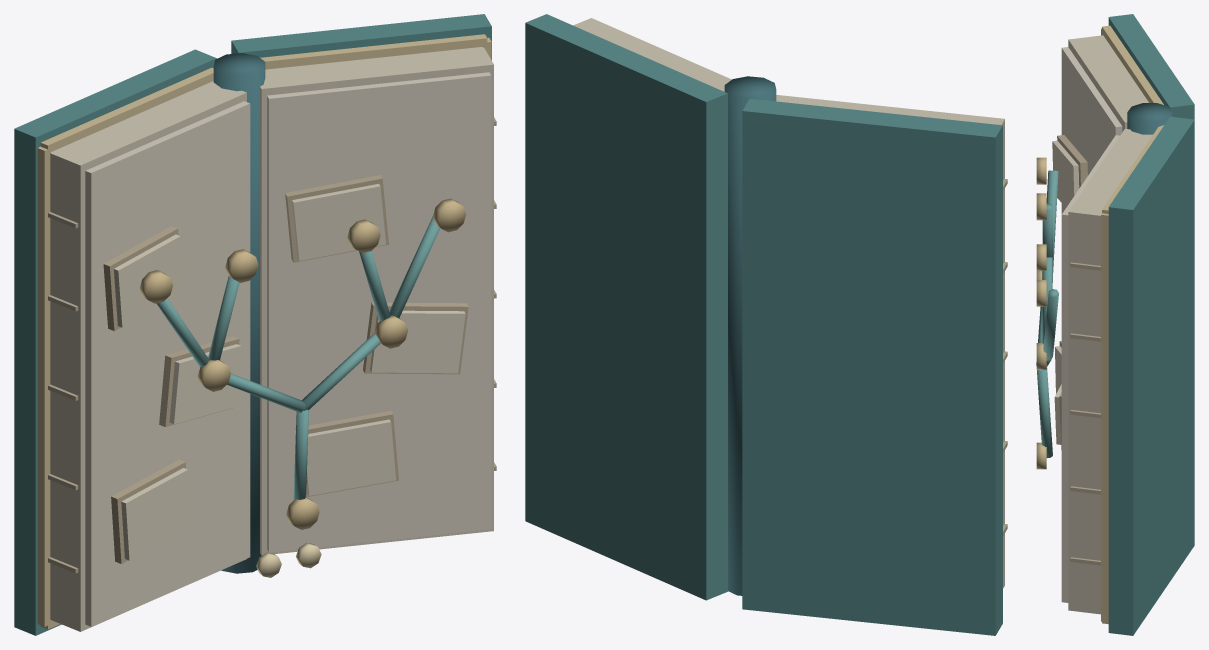
File: ART-39.glb
The picture shows the model from 3 angles, left to right: view 1: azimuth 30°, elevation 25°; view 2: azimuth 150°, elevation 25°; view 3: azimuth 270°, elevation 25°; orthographic projection. The views are drawn at different scales.
Visible parts, largest first — view 1: world; view 2: world; view 3: world.
Part boxes in pixels (box(x1,y1,x2,y2)): world: box(14, 14, 496, 635); world: box(525, 14, 1007, 635); world: box(1036, 14, 1194, 635).
Size of the model in its own units: 1.98 by 2 by 0.6749.
